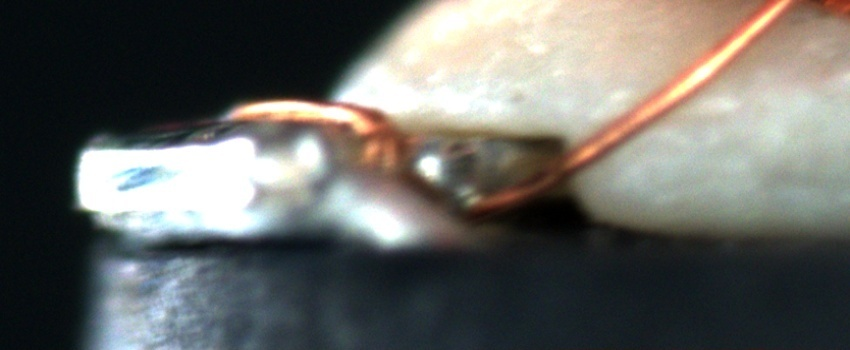DL: (593, 88, 746, 143)
TE: (221, 95, 416, 158)
